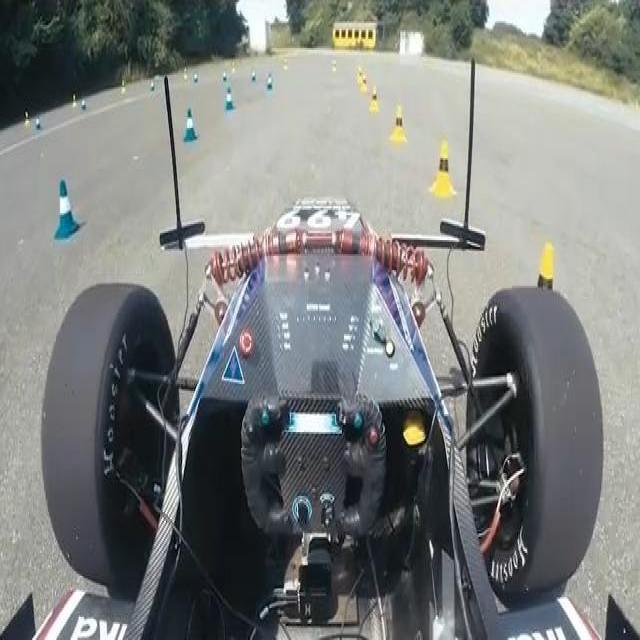blue_cone: (49, 172, 79, 240), (181, 106, 198, 146), (224, 85, 234, 111), (265, 71, 272, 94), (35, 112, 42, 132), (81, 94, 87, 112), (149, 78, 155, 94), (193, 71, 199, 86), (251, 68, 257, 82), (222, 69, 228, 83)
yellow_cone: (522, 238, 571, 393), (431, 135, 455, 197), (390, 101, 406, 142), (368, 86, 378, 114), (361, 74, 368, 96), (22, 108, 29, 130), (358, 66, 365, 86), (120, 80, 127, 97), (282, 53, 288, 70), (71, 94, 77, 110), (332, 57, 337, 75), (183, 66, 188, 81)
